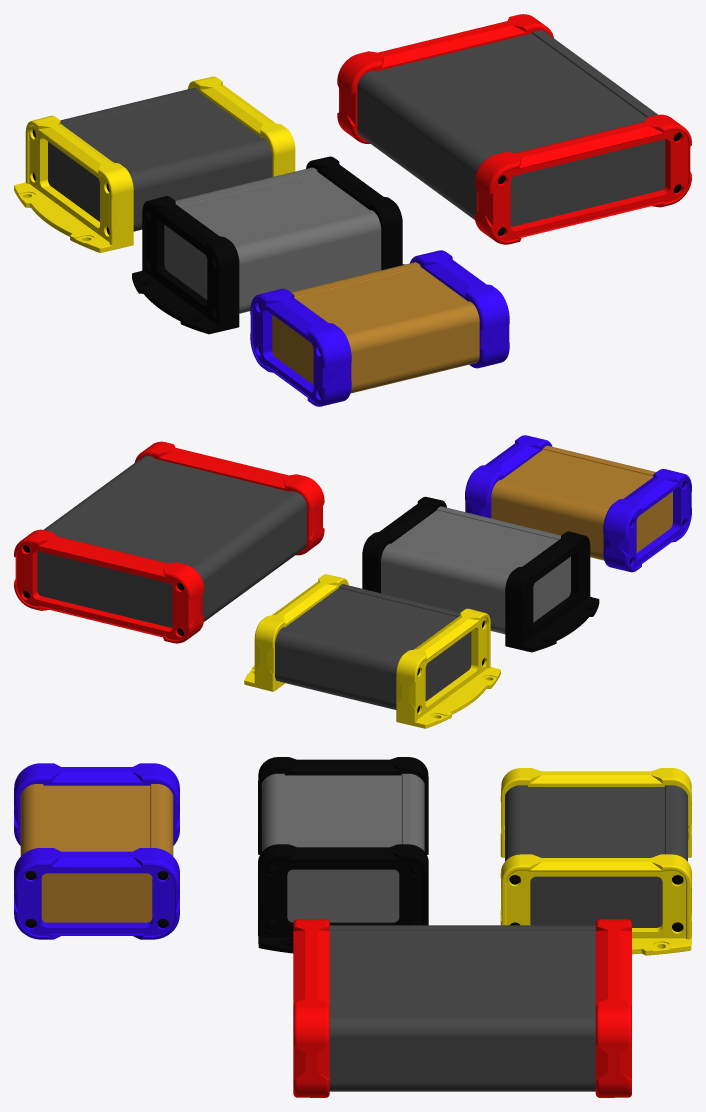
3 renders of one model, top to bottom at view 1: azimuth 30°, elevation 25°; view 2: azimuth 150°, elevation 25°; view 3: azimuth 270°, elevation 25°, orthographic. The views are drawn at different scales.
Visible parts, largest first — view 1: SC-FT120x40-10_B, SC-FT120x40-30_黑色 (×2), SC-FT90x35-10_B, SC-FT80x40-10_B, SC-FT75x35-10_B, SC-FT90x35-30_深蓝色 (×2), SC-FT80x40-30_深蓝色 (×2), SC-FT75x35-30_黑色 (×2), SC-FT120x40-20_A, SC-FT120x40-10_A, SC-FT75x35-10_A, SC-FT80x40-10_A (+4 smaller); view 2: SC-FT120x40-10_B, SC-FT120x40-30_黑色 (×2), SC-FT90x35-10_B, SC-FT80x40-10_B, SC-FT90x35-30_深蓝色 (×2), SC-FT75x35-10_B, SC-FT80x40-30_深蓝色 (×2), SC-FT75x35-30_黑色 (×2), SC-FT120x40-20_B, SC-FT90x35-10_A, SC-FT120x40-10_A, SC-FT80x40-10_A (+4 smaller); view 3: SC-FT120x40-10_B, SC-FT120x40-30_黑色 (×2), SC-FT90x35-10_B, SC-FT75x35-30_黑色 (×2), SC-FT80x40-30_深蓝色 (×2), SC-FT90x35-30_深蓝色 (×2), SC-FT80x40-10_B, SC-FT75x35-10_B, SC-FT120x40-10_A, SC-FT90x35-20_A, SC-FT80x40-20_A, SC-FT75x35-20_A.
Part boxes in pixels (x1,y1,x2,y2): SC-FT120x40-10_B: (357,30,657,194); SC-FT120x40-30_黑色 (×2): (337,14,691,244); SC-FT90x35-10_B: (60,87,272,207); SC-FT80x40-10_B: (175,167,381,285); SC-FT75x35-10_B: (291,262,479,369); SC-FT90x35-30_深蓝色 (×2): (14,76,295,252); SC-FT80x40-30_深蓝色 (×2): (132,156,405,334); SC-FT75x35-30_黑色 (×2): (250,250,509,406); SC-FT120x40-20_A: (510,139,665,226); SC-FT120x40-10_A: (357,108,476,219); SC-FT75x35-10_A: (350,338,479,393); SC-FT80x40-10_A: (239,251,381,313); SC-FT120x40-10_B: (43,455,306,599); SC-FT120x40-30_黑色 (×2): (14,441,324,643); SC-FT90x35-10_B: (275,584,459,688); SC-FT80x40-10_B: (381,506,560,609); SC-FT90x35-30_深蓝色 (×2): (244,574,500,728); SC-FT75x35-10_B: (491,445,655,539); SC-FT80x40-30_深蓝色 (×2): (362,496,599,652); SC-FT75x35-30_黑色 (×2): (465,435,691,572); SC-FT120x40-20_B: (37,551,172,627); SC-FT90x35-10_A: (275,659,396,709); SC-FT120x40-10_A: (202,524,306,621); SC-FT80x40-10_A: (381,579,505,634); SC-FT120x40-10_B: (329,925,595,1059); SC-FT120x40-30_黑色 (×2): (293,919,631,1097); SC-FT90x35-10_B: (505,785,687,861); SC-FT75x35-30_黑色 (×2): (14,763,179,939); SC-FT80x40-30_深蓝色 (×2): (258,757,428,953); SC-FT90x35-30_深蓝色 (×2): (500,768,691,955); SC-FT80x40-10_B: (262,774,424,851); SC-FT75x35-10_B: (20,784,173,880); SC-FT120x40-10_A: (329,1060,595,1091); SC-FT90x35-20_A: (530,876,662,927); SC-FT80x40-20_A: (287,869,399,922); SC-FT75x35-20_A: (41,873,152,922).
Size of the model in its own units: 0.3188 by 0.0478 by 0.3333.
Materials: 56 (16 with a texture image).
